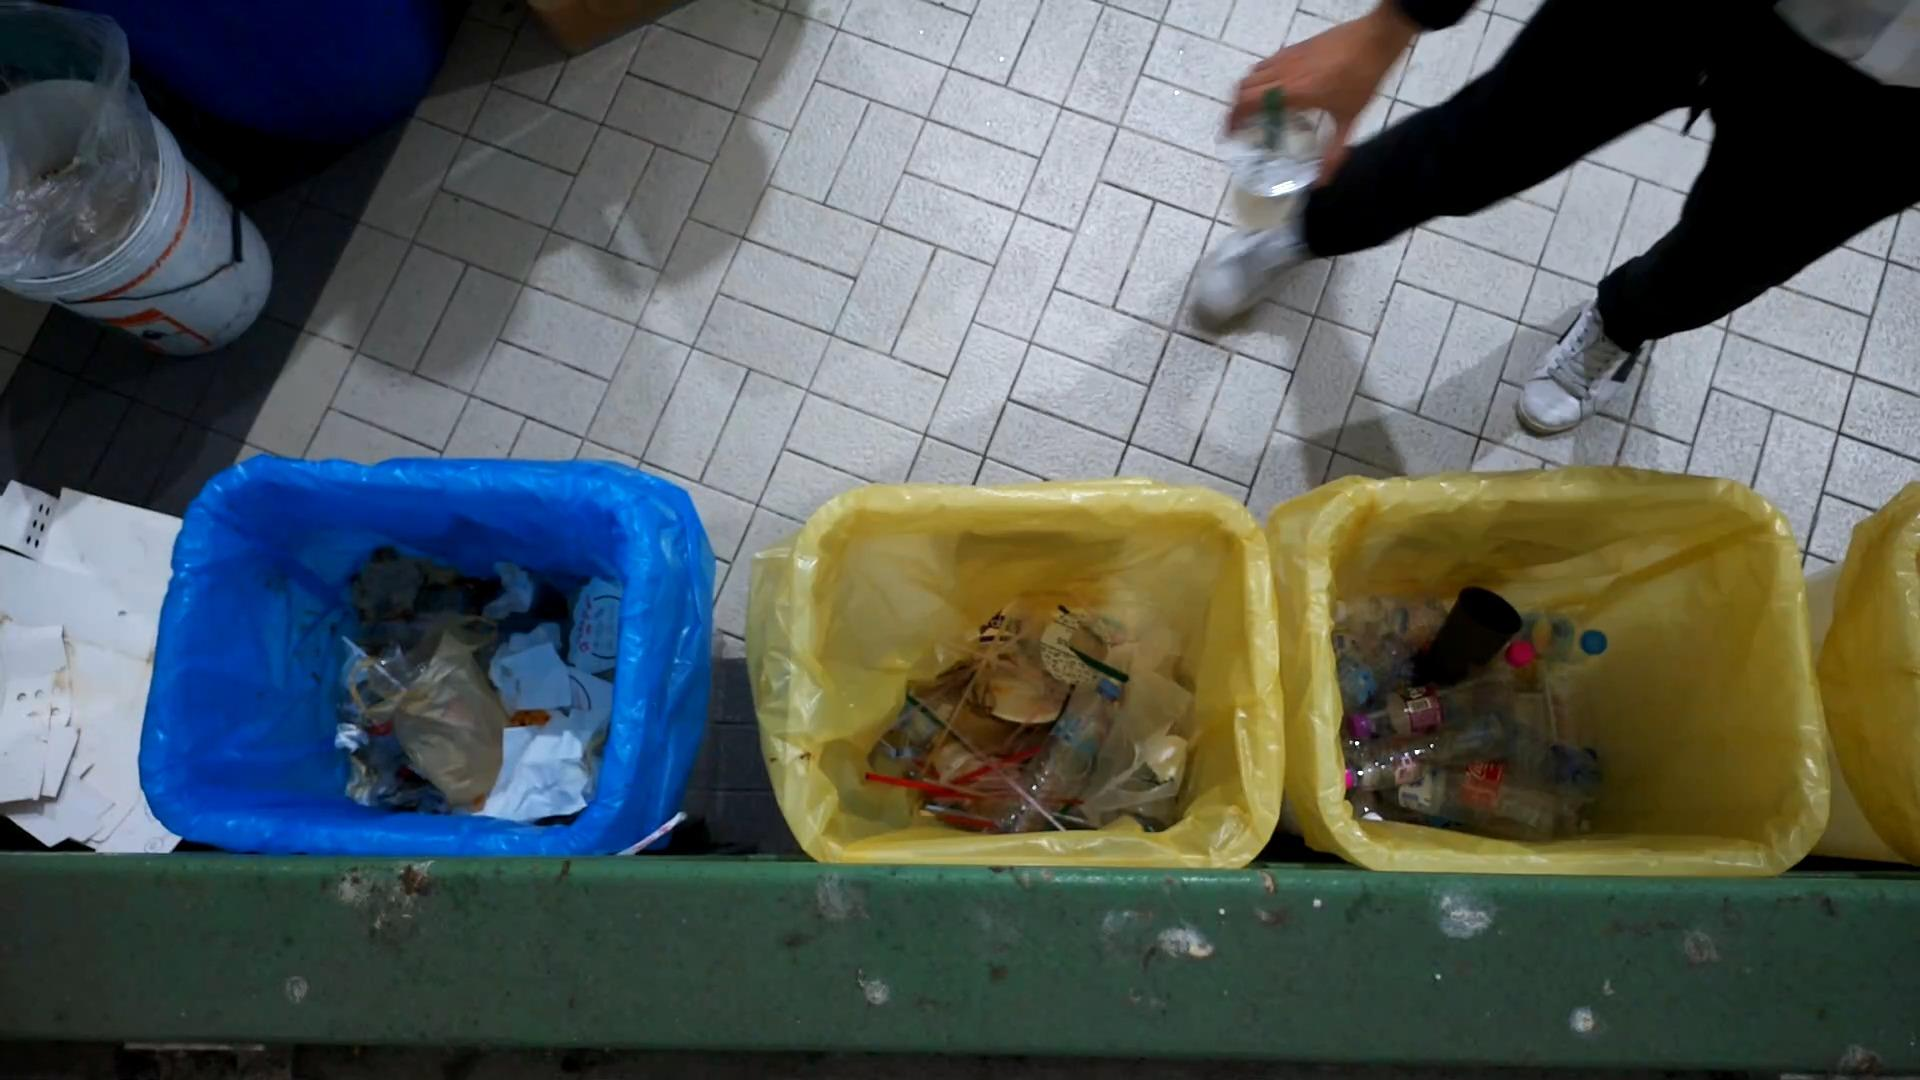filled plastic bag: (338, 612, 527, 799)
food container: (510, 650, 624, 733), (554, 575, 642, 676)
plastic bag: (1085, 618, 1204, 822)
plastic bottle: (1001, 676, 1137, 816), (1344, 696, 1506, 803), (1361, 762, 1556, 840), (1337, 673, 1502, 745), (1335, 587, 1448, 641), (1518, 604, 1610, 666)
plastic cup: (1215, 108, 1353, 257), (1400, 585, 1532, 707), (1009, 608, 1120, 687)
straw: (914, 596, 1026, 783), (943, 698, 1080, 836), (853, 766, 993, 808), (1025, 679, 1073, 781), (947, 740, 1048, 785), (1062, 645, 1137, 683), (1265, 73, 1295, 160)
tissue paper: (465, 711, 579, 824), (481, 553, 534, 624), (1145, 736, 1192, 794)
